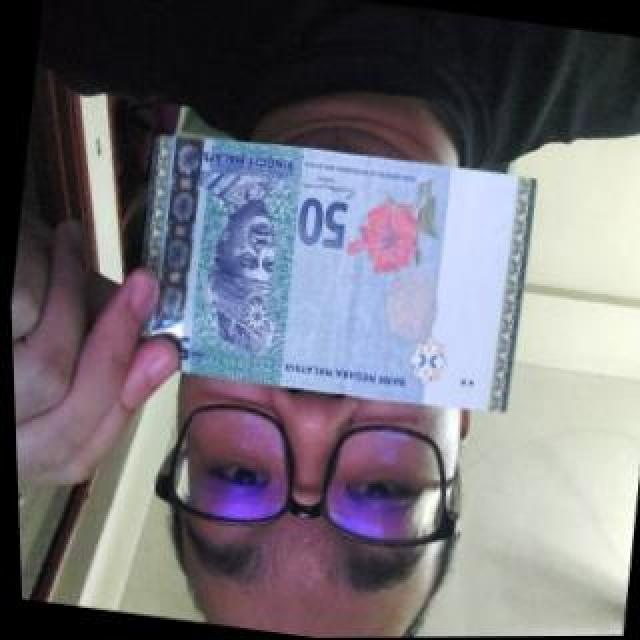50 Ringgit: (108, 110, 551, 435)
